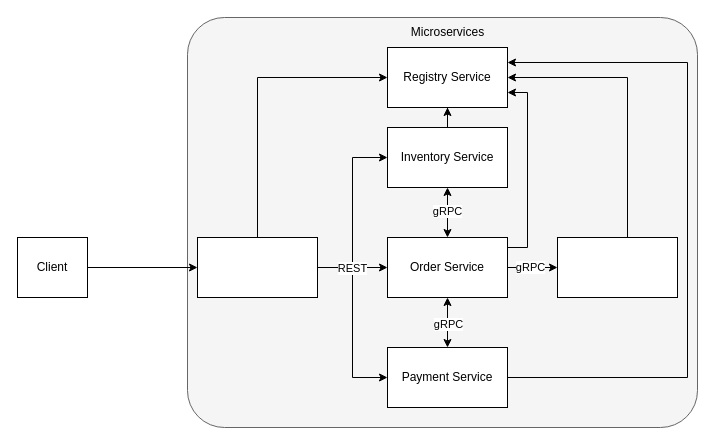
This 715x445 diagram has some shape labels left out. The centre of each missing label's shape, as x and y in pixels:
Gateway Service: the point at 257,267
Notification Service: the point at 617,267
